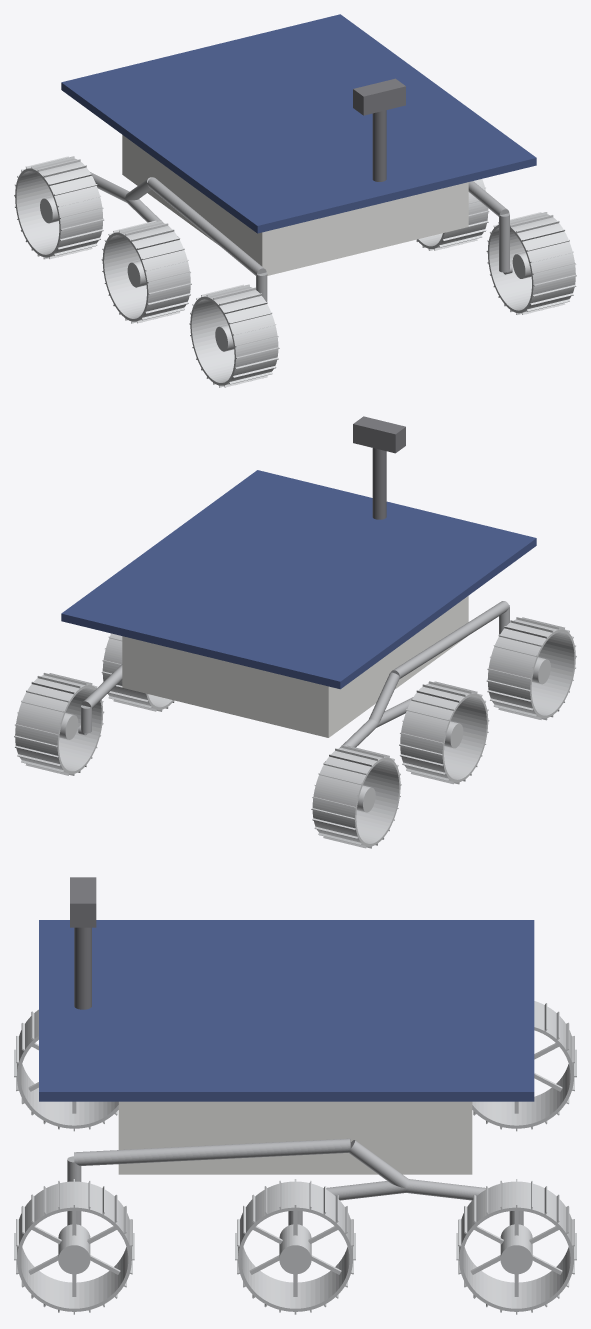
The model's file is rover00_micro_rover.glb.
The picture shows the model from 3 angles, top to bottom: view 1: azimuth 30°, elevation 25°; view 2: azimuth 150°, elevation 25°; view 3: azimuth 270°, elevation 25°; orthographic projection. The views are drawn at different scales.
Parts seen in each view (by area): view 1: solar_panel, body_web, wheel_5, wheel_4, wheel_6, wheel_1, rocker_bogie, mast_camera, wheel_2; view 2: solar_panel, body_web, wheel_5, wheel_6, wheel_4, wheel_3, rocker_bogie, mast_camera, wheel_2; view 3: solar_panel, body_web, wheel_1, wheel_3, wheel_2, rocker_bogie, wheel_6, wheel_4, mast_camera.
Part boxes in pixels (x1,y1,x2,y2): solar_panel: (61, 14, 536, 233); body_web: (122, 135, 468, 275); wheel_5: (101, 220, 191, 323); wheel_4: (189, 284, 279, 387); wheel_6: (14, 156, 104, 259); wheel_1: (486, 212, 576, 314); rocker_bogie: (90, 172, 512, 301); mast_camera: (353, 78, 405, 181); wheel_2: (416, 179, 489, 250); solar_panel: (61, 470, 536, 689); body_web: (122, 596, 468, 737); wheel_5: (399, 681, 489, 784); wheel_6: (311, 745, 401, 848); wheel_4: (486, 617, 576, 720); wheel_3: (14, 672, 104, 775); rocker_bogie: (78, 601, 509, 762); mast_camera: (353, 416, 405, 519); wheel_2: (101, 633, 174, 711); solar_panel: (39, 920, 534, 1101); body_web: (118, 1101, 472, 1174); wheel_1: (14, 1179, 134, 1314); wheel_3: (456, 1179, 576, 1314); wheel_2: (235, 1179, 355, 1314); rocker_bogie: (67, 1138, 523, 1225); wheel_6: (472, 1001, 576, 1131); wheel_4: (14, 1009, 118, 1131); mast_camera: (70, 877, 96, 1009).
Bounding box in the file's own units: 0.56 × 0.3983 × 0.6365.
